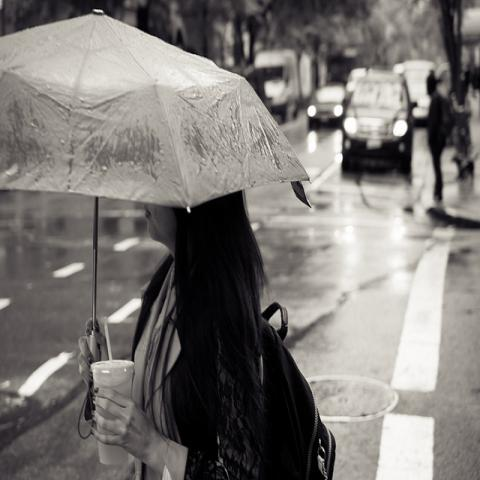car: (342, 68, 418, 172), (394, 58, 437, 122), (306, 81, 346, 130), (345, 66, 367, 103)
truck: (244, 49, 302, 118)
